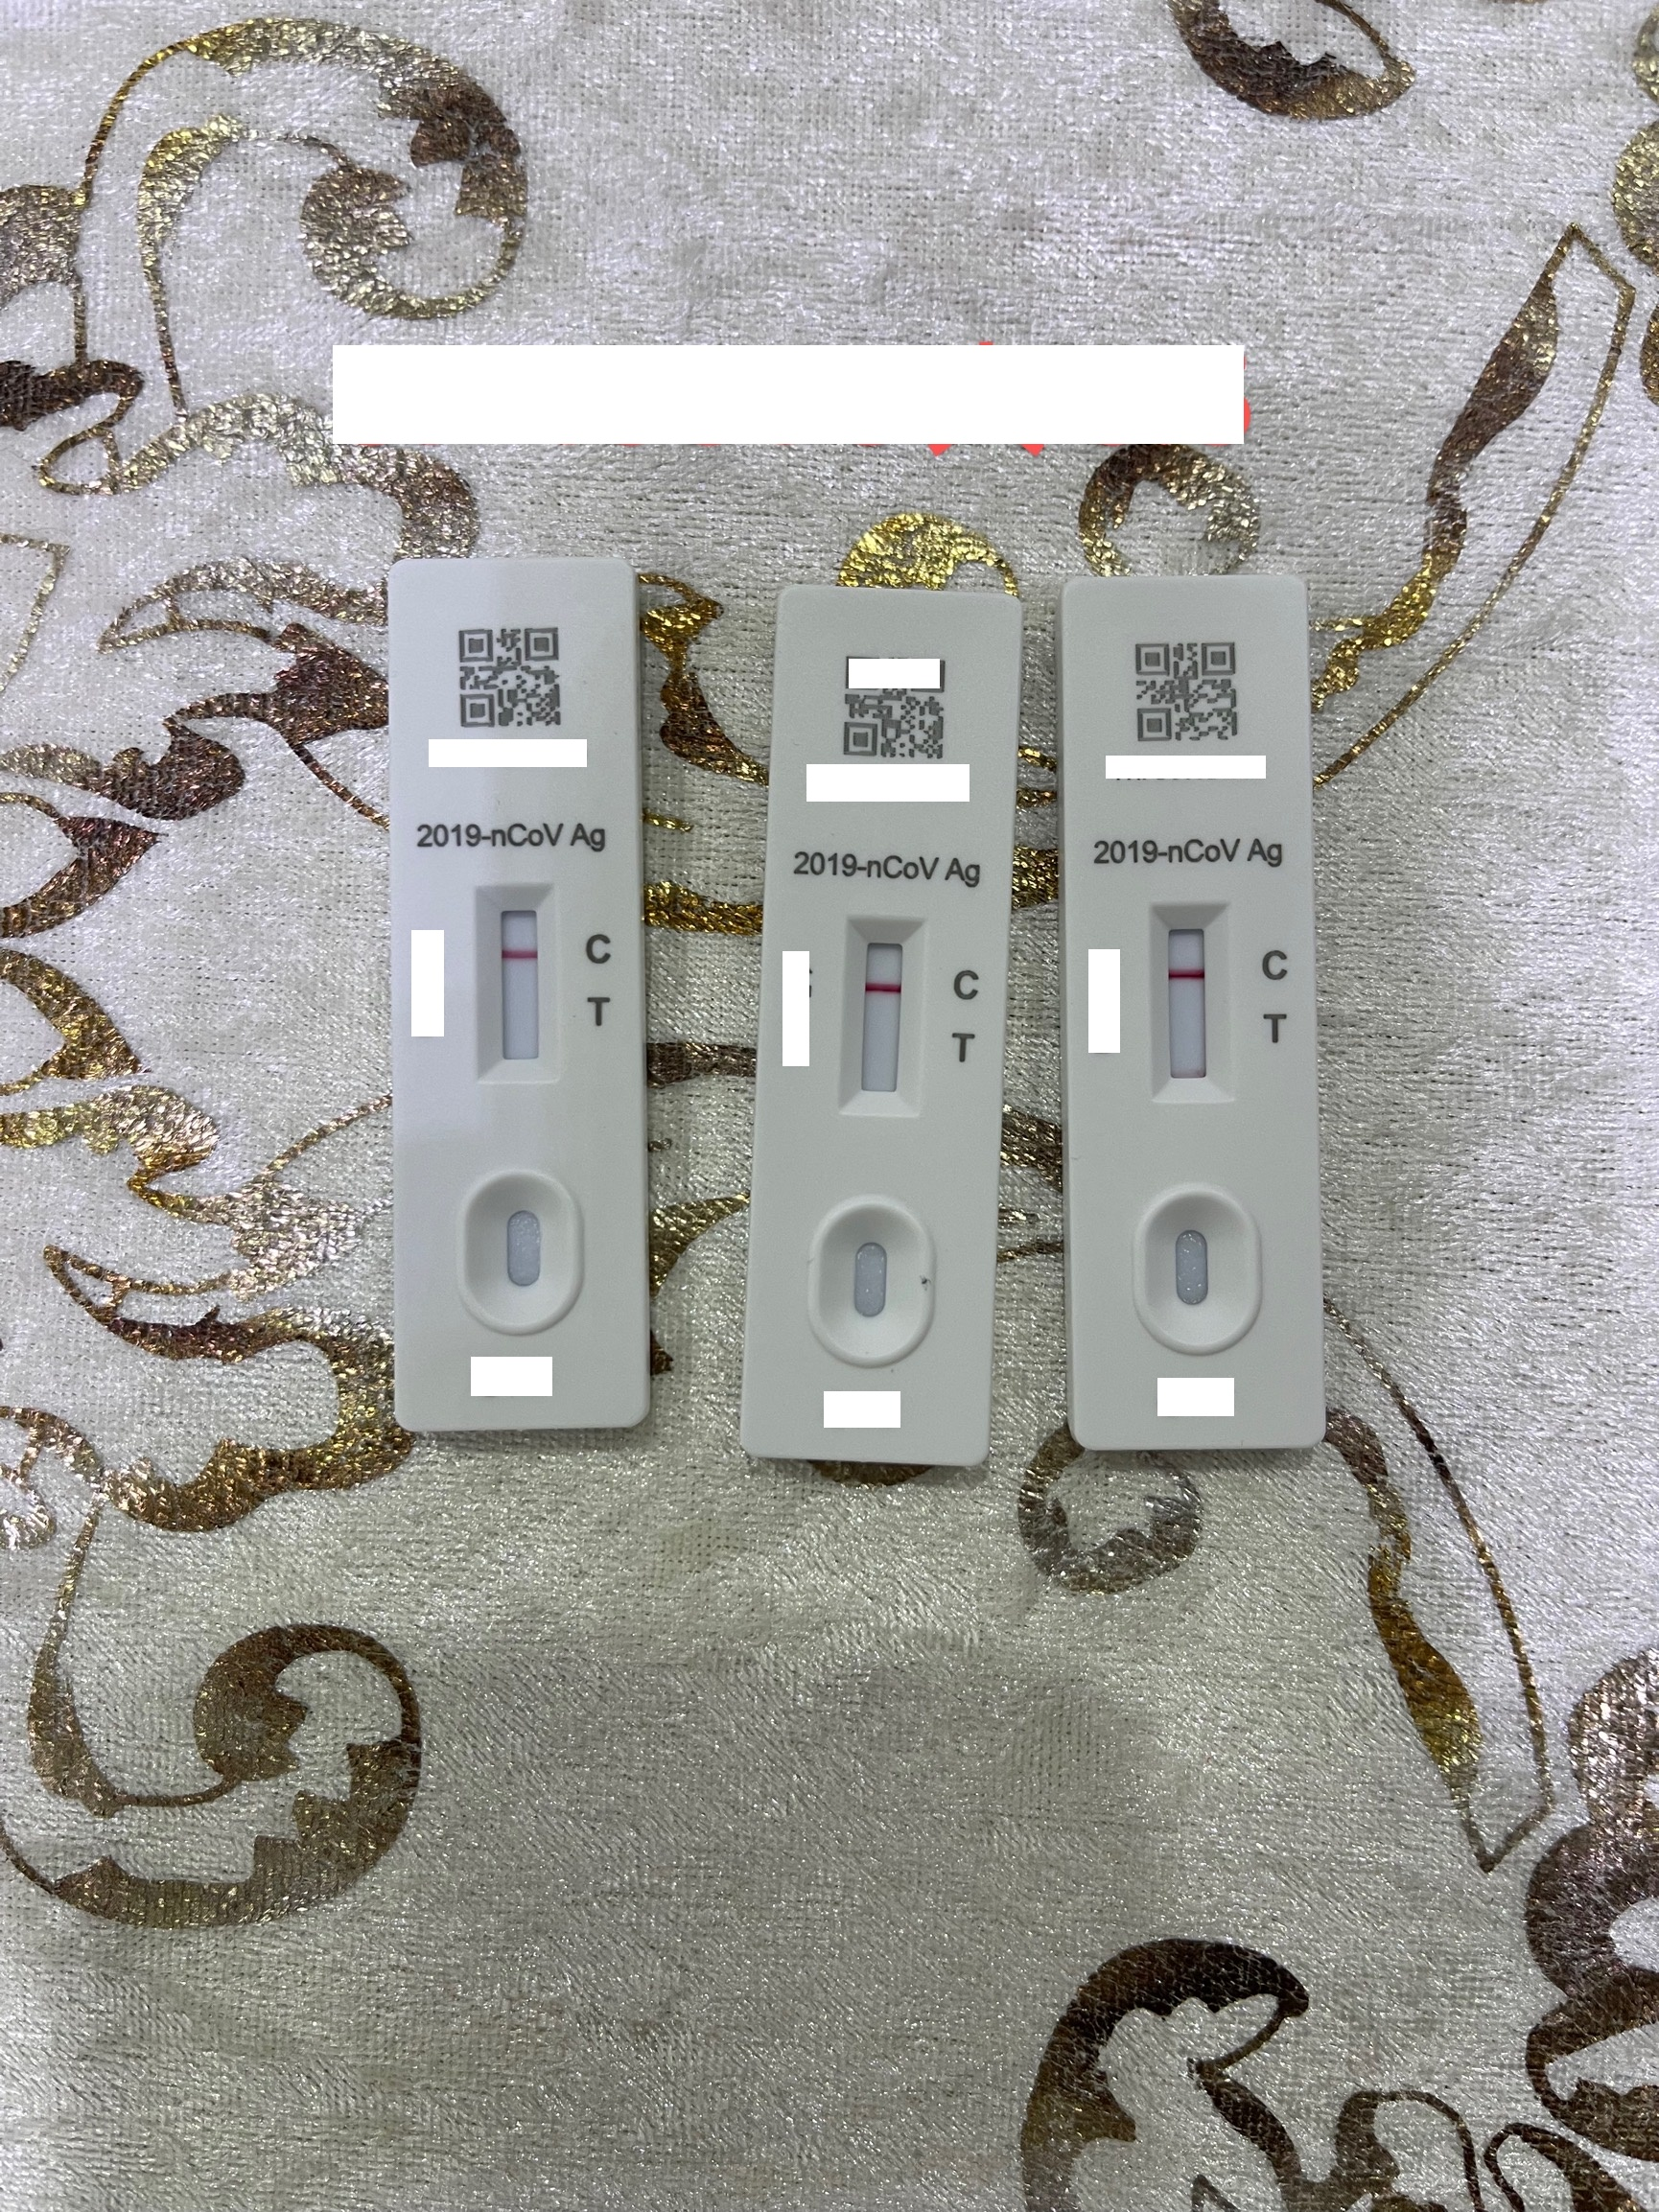negative: (474, 878, 556, 1078), (842, 911, 924, 1108), (1148, 899, 1227, 1101)
